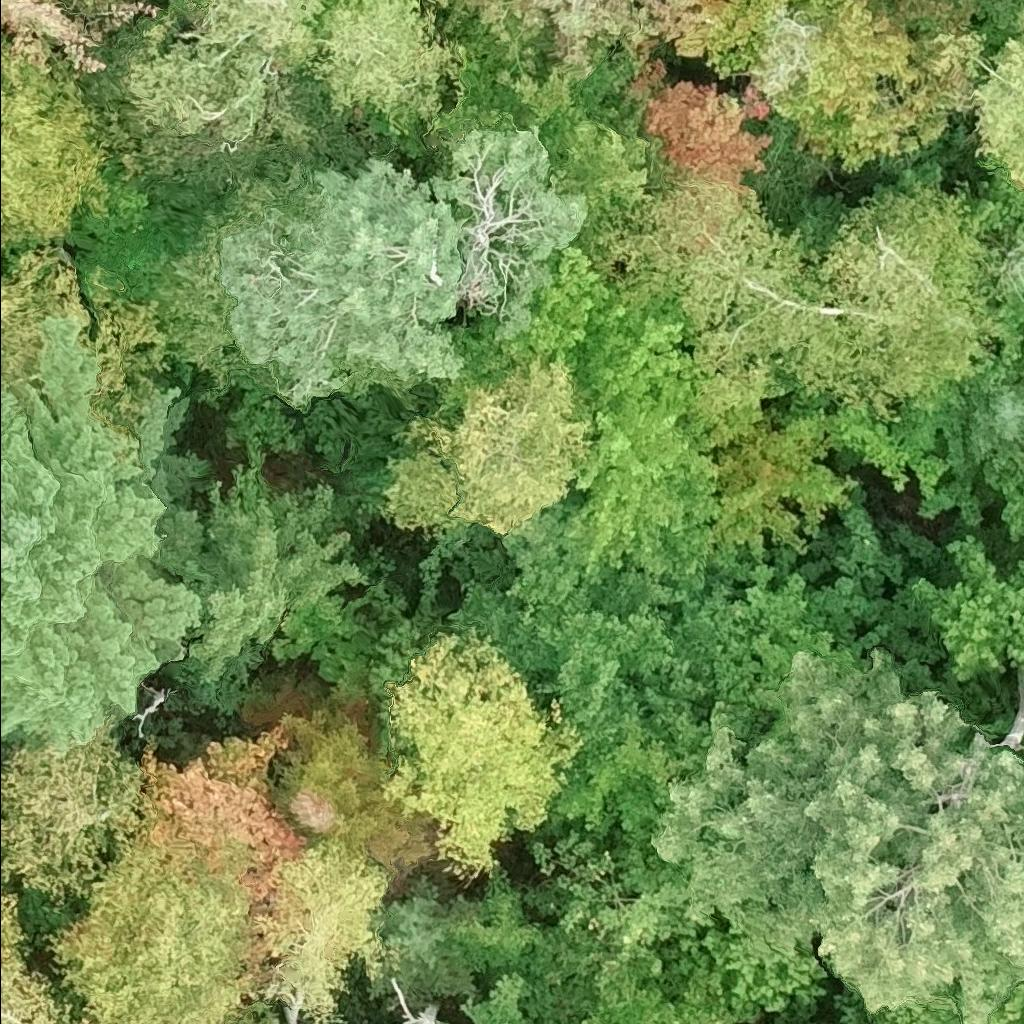crown: (437, 242, 854, 602), (652, 651, 1023, 1023), (163, 123, 588, 410), (424, 517, 756, 835), (0, 710, 310, 1023), (0, 326, 199, 757), (726, 494, 985, 756), (530, 827, 831, 1023), (617, 184, 842, 409), (707, 0, 994, 169), (383, 628, 573, 878), (816, 160, 1000, 413), (173, 468, 362, 701), (454, 866, 730, 1023), (267, 706, 446, 880), (887, 295, 1023, 520), (429, 358, 592, 526), (0, 38, 112, 269), (253, 835, 386, 1023), (428, 0, 640, 109), (128, 28, 309, 147), (306, 0, 472, 129), (916, 535, 1023, 679), (0, 236, 82, 398), (197, 0, 369, 68), (0, 0, 158, 74), (972, 4, 1023, 185), (385, 412, 461, 529), (624, 0, 731, 61), (0, 961, 104, 1023), (838, 979, 965, 1023), (972, 392, 1023, 468), (466, 969, 524, 1023), (988, 458, 1023, 538), (0, 892, 25, 963), (993, 990, 1023, 1023), (1007, 728, 1023, 755), (441, 1021, 444, 1023)
